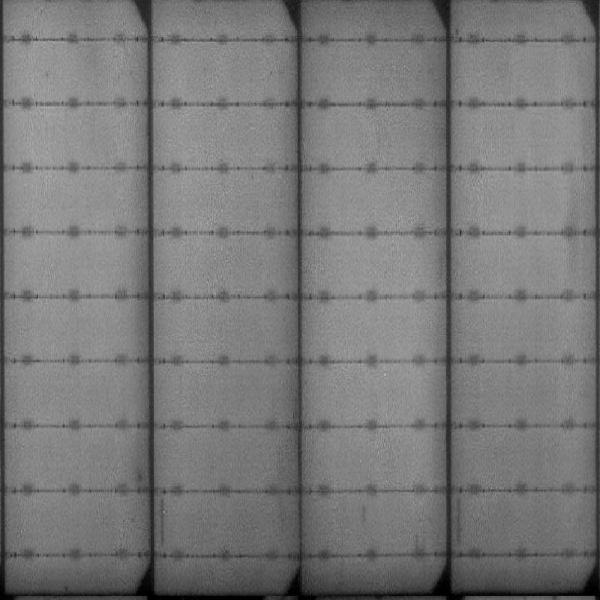scratch: (158, 494, 172, 550)
